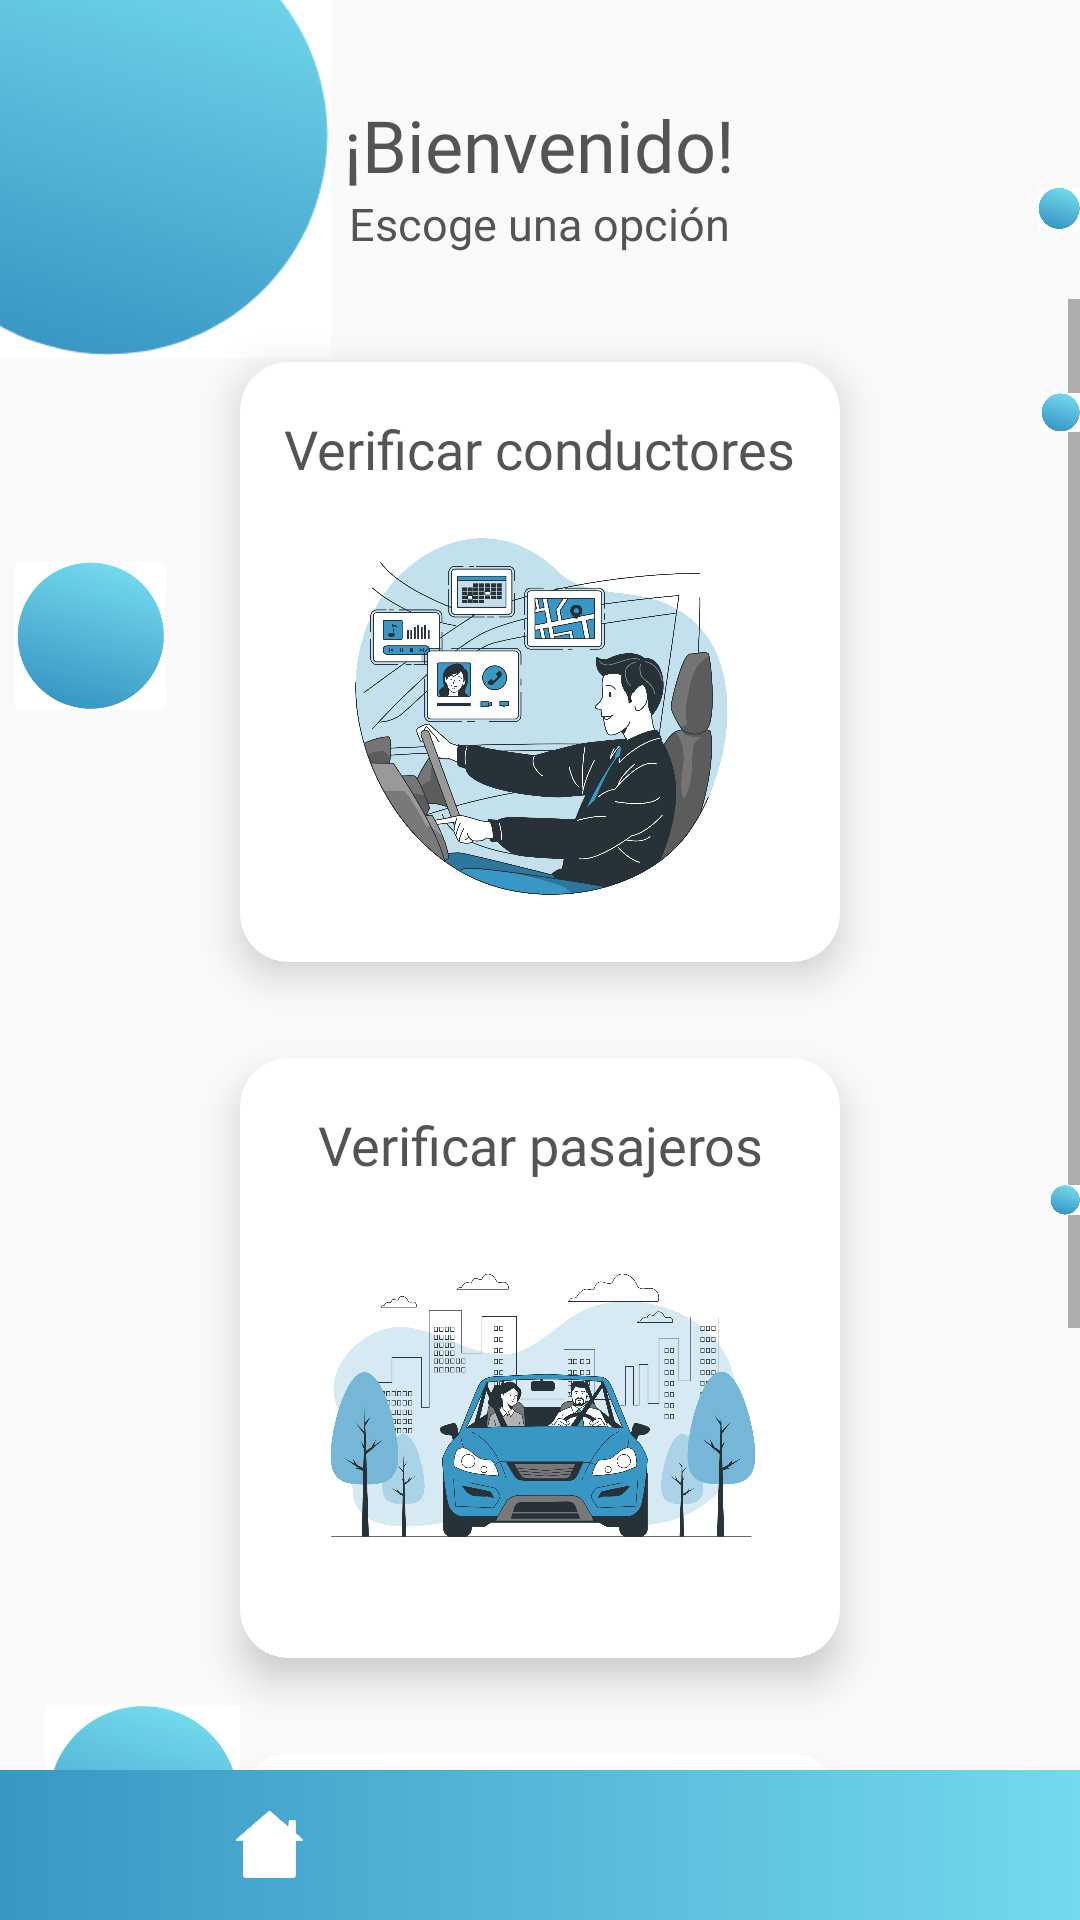

Icon click points for this 1080px×1920px phone screenshot, format (x=x, y=y):
Inicio: (x=269, y=1844)
